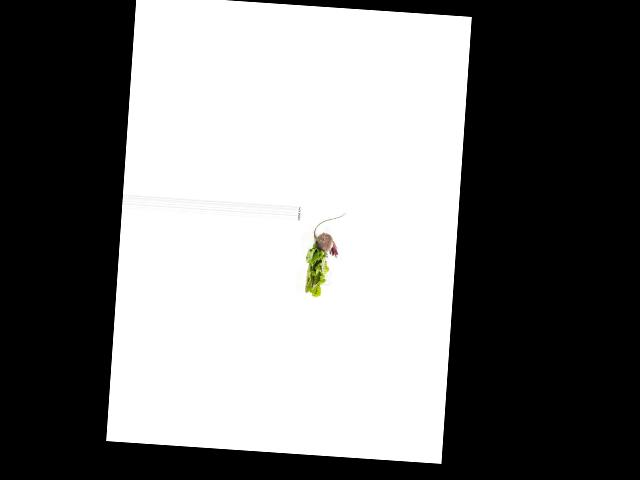beet: (311, 209, 346, 258)
